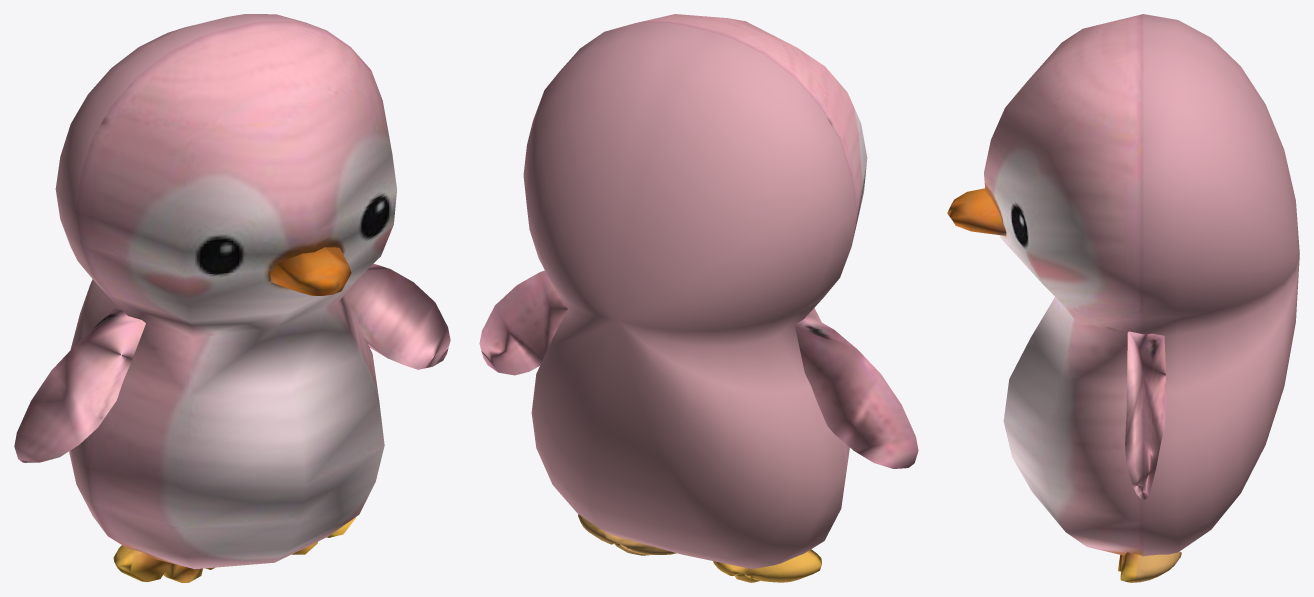
The model's file is penguin-04-12-pastel-pink-crochet-penguin.gltf.
The picture shows the model from 3 angles, left to right: view 1: azimuth 30°, elevation 25°; view 2: azimuth 150°, elevation 25°; view 3: azimuth 270°, elevation 25°; orthographic projection. The views are drawn at different scales.
Visible parts, largest first — view 1: penguin-04-12-pastel-pink-crochet-penguin; view 2: penguin-04-12-pastel-pink-crochet-penguin; view 3: penguin-04-12-pastel-pink-crochet-penguin.
Part boxes in pixels (left/top/right/bottom): penguin-04-12-pastel-pink-crochet-penguin: left=14, top=14, right=450, bottom=582; penguin-04-12-pastel-pink-crochet-penguin: left=479, top=14, right=918, bottom=582; penguin-04-12-pastel-pink-crochet-penguin: left=947, top=14, right=1299, bottom=582.
Bounding box in the file's own units: 0.2 × 0.2346 × 0.1465.
1 material, 1 textured.
